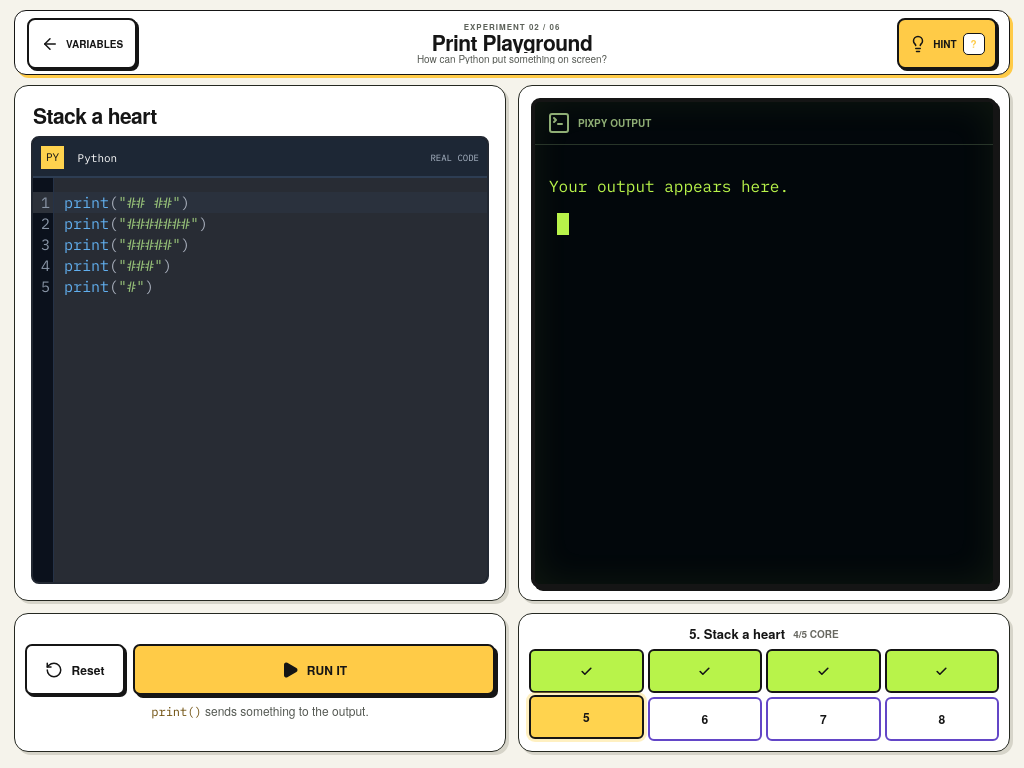
Test case: Print Playground screen › marks the parent experience complete when the fifth core activity succeeds
The width and height of the screenshot is (1024, 768).
Step 1. Click the button "RUN IT" → (314, 670), box left=133, top=644, right=495, bottom=695
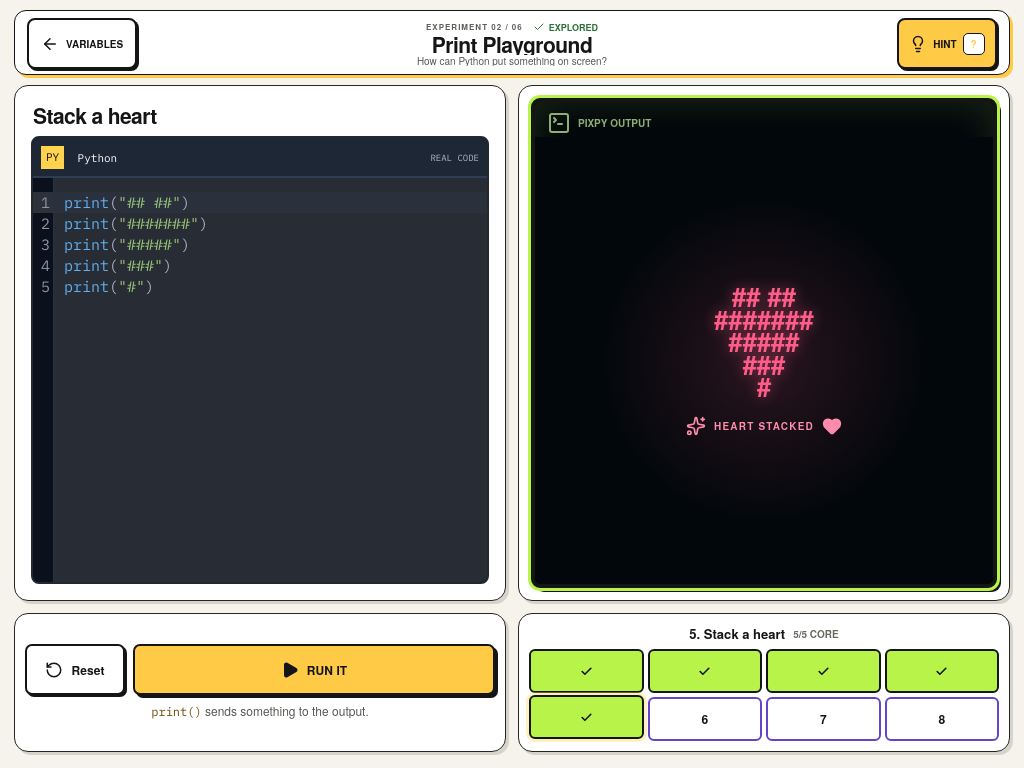
expect the element named "Stacked heart celebration" is shown: met, box left=535, top=137, right=993, bottom=584
